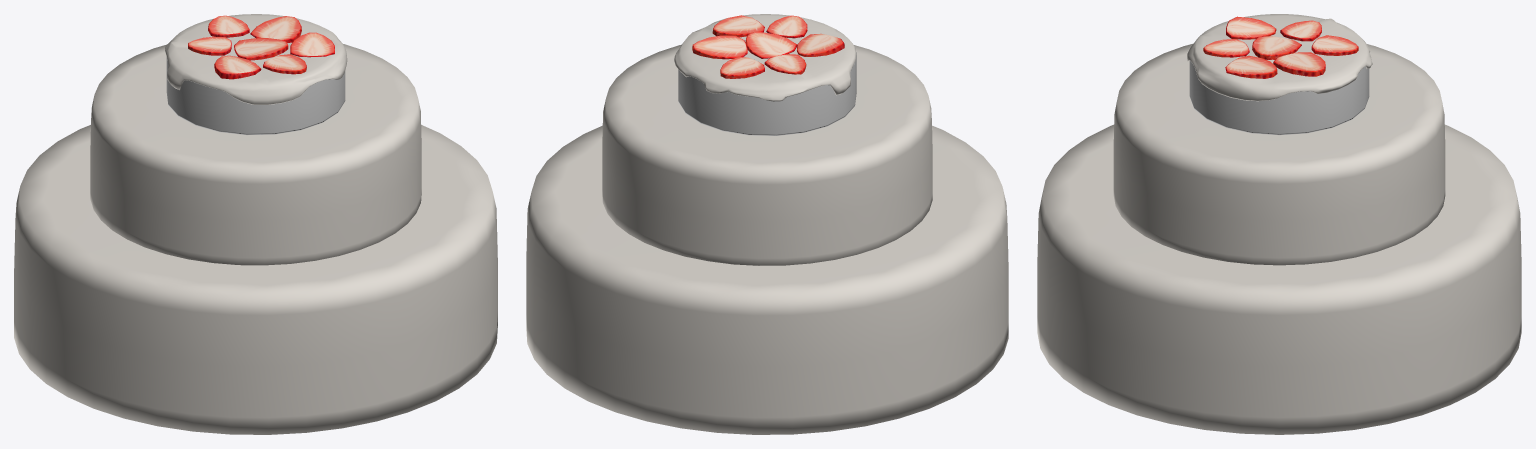
The picture shows the model from 3 angles, left to right: view 1: azimuth 30°, elevation 25°; view 2: azimuth 150°, elevation 25°; view 3: azimuth 270°, elevation 25°; orthographic projection.
Visible parts, largest first — view 1: pPlane8; view 2: pPlane8; view 3: pPlane8.
Boxes of the visible parts, x1,y1,x2,y2 form: pPlane8: (14,14,497,434); pPlane8: (526,14,1008,434); pPlane8: (1037,14,1521,434).
Size of the model in its own units: 31.06 by 20.53 by 31.06.
